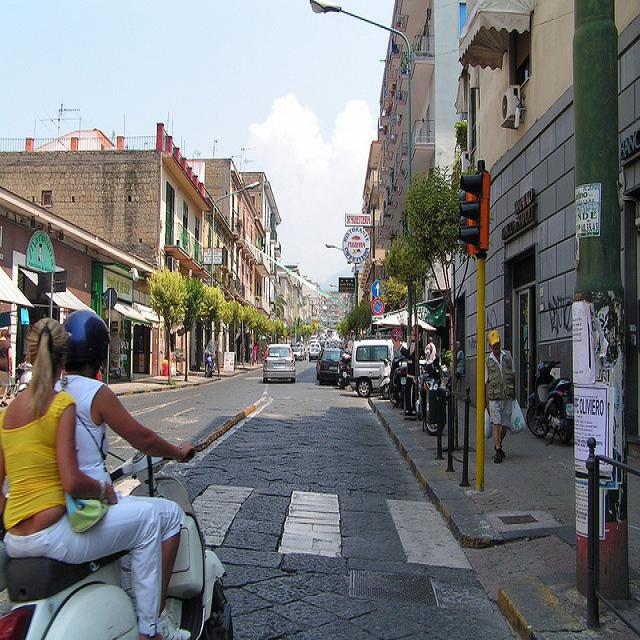motor: (0, 453, 234, 640), (526, 362, 574, 445), (415, 369, 447, 434), (380, 355, 413, 405), (338, 359, 350, 390), (205, 348, 216, 377)
